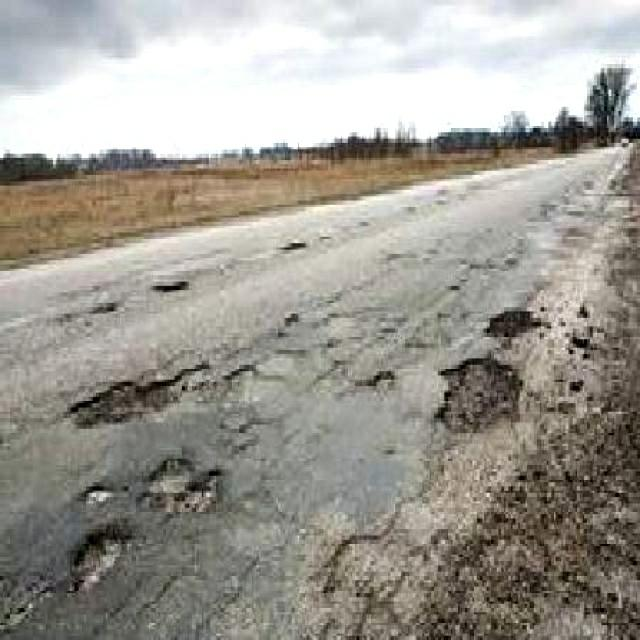Pothole: (66, 354, 208, 427), (437, 354, 528, 433), (140, 454, 222, 516), (67, 523, 133, 595), (483, 303, 547, 339), (82, 482, 119, 503)
